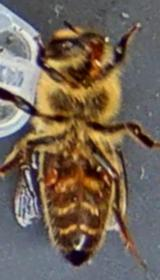varroa_mite: (34, 158, 72, 194), (89, 158, 116, 190)
